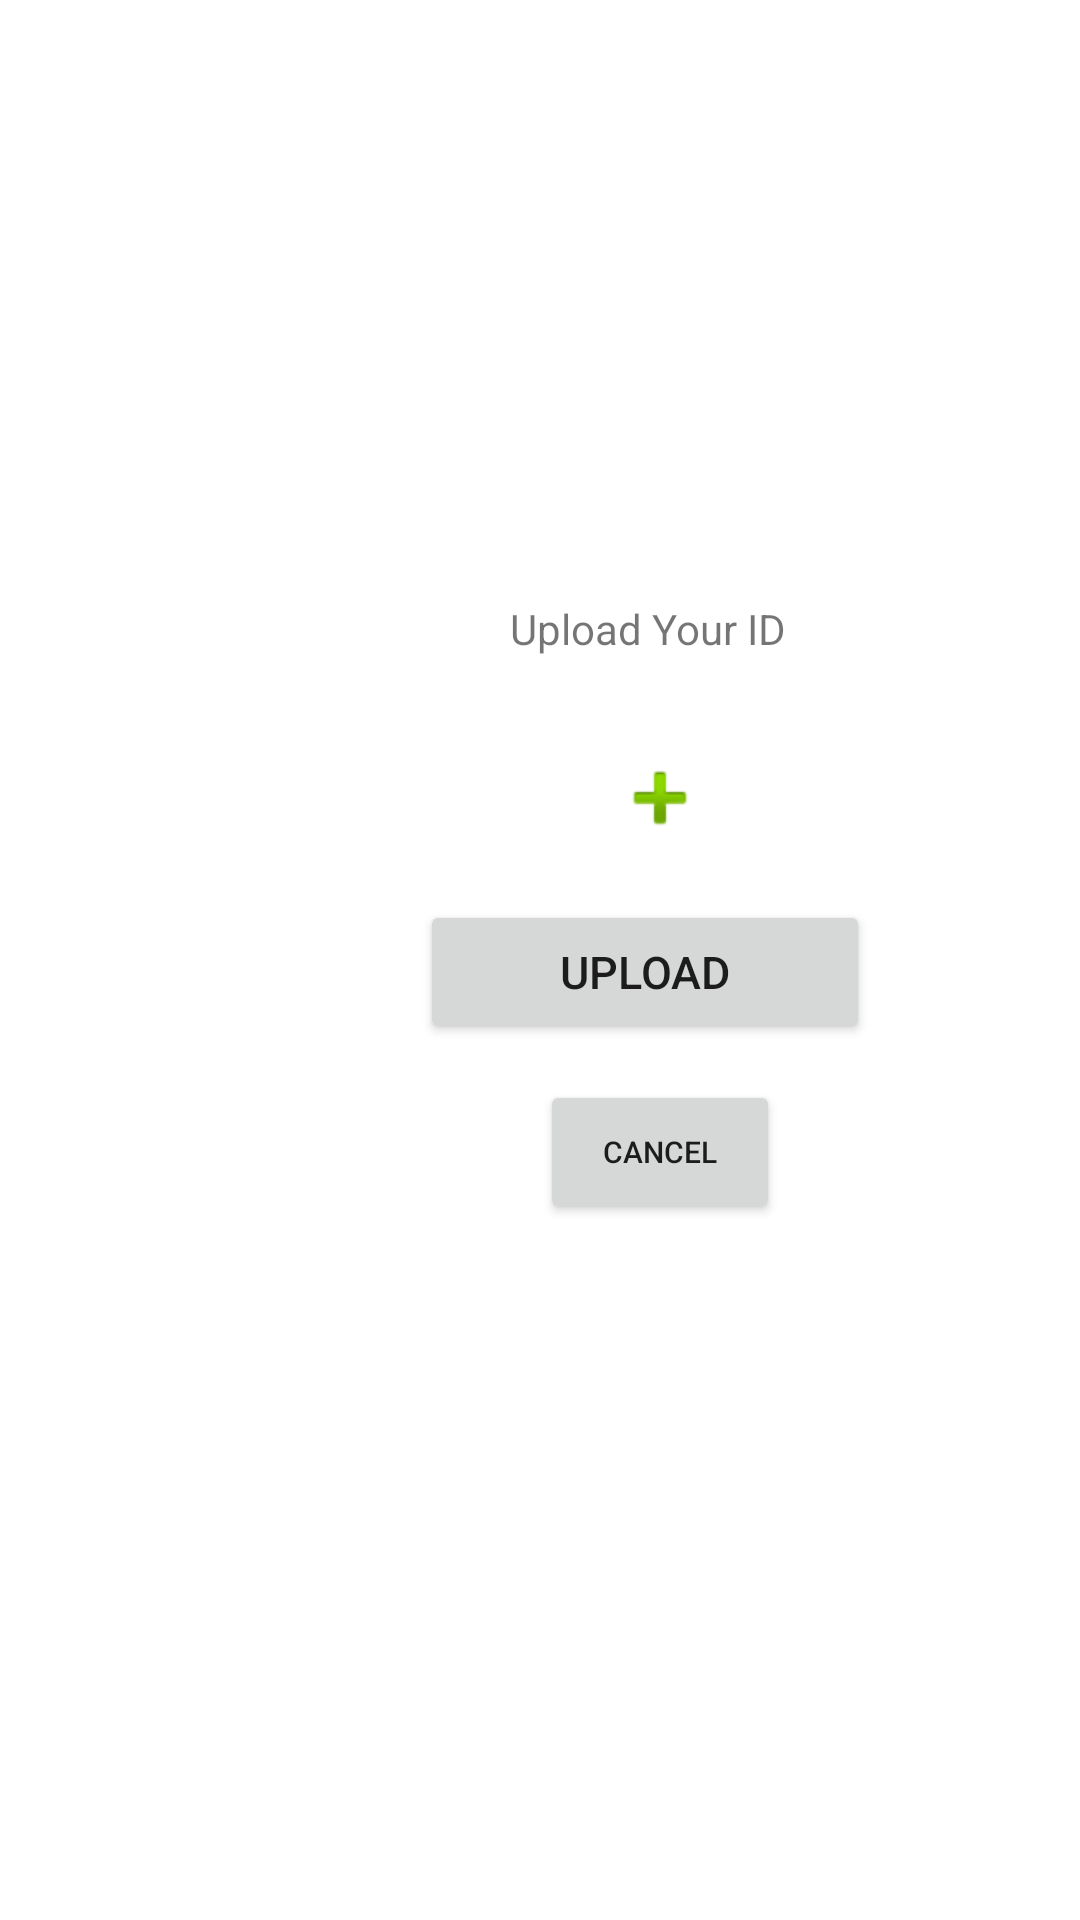

Screen size 1080px×1920px. Icon name, then its box in pixels as [x1=x1, y1=y1, x2=x2, y2=y2]:
add: [x1=633, y1=771, x2=687, y2=825]
